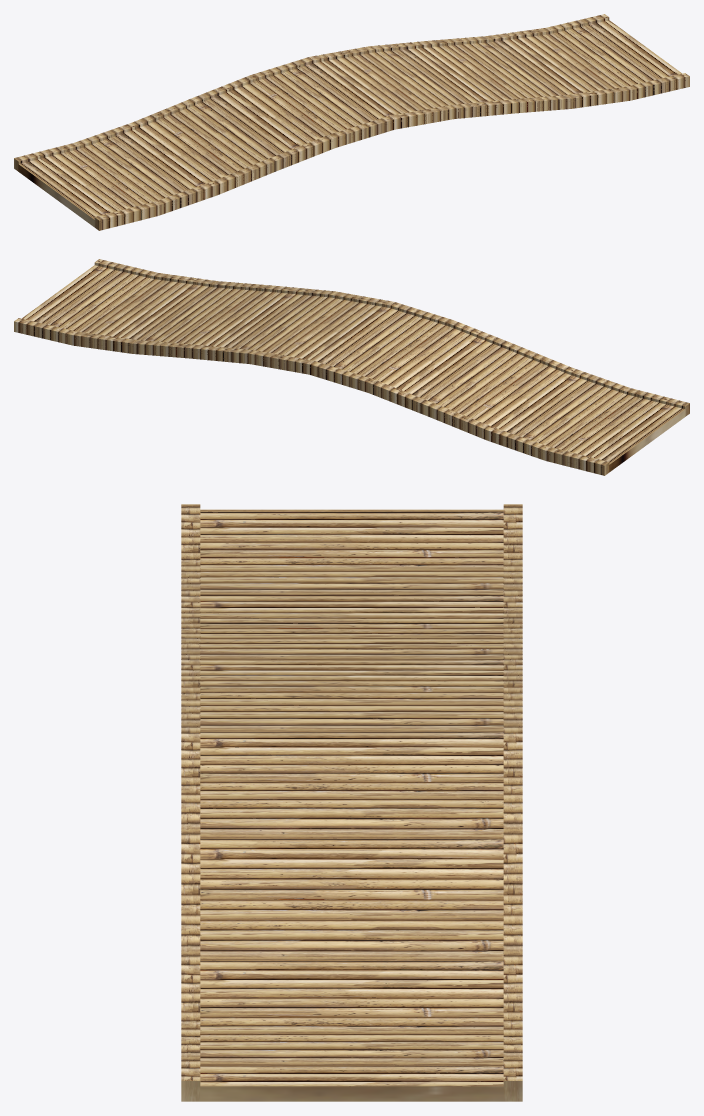
File: Jembatan Bambu.fbx
3 views of the same model, one above another, from view 1: azimuth 30°, elevation 25°; view 2: azimuth 150°, elevation 25°; view 3: azimuth 270°, elevation 25° (orthographic). The views are drawn at different scales.
Parts seen in each view (by area): view 1: Cube.001; view 2: Cube.001; view 3: Cube.001.
Boxes of the visible parts, box(x1,y1,x2,y2) form: Cube.001: box(14, 14, 689, 230); Cube.001: box(14, 259, 689, 475); Cube.001: box(181, 504, 522, 1101).
Bounding box in the file's own units: 40 × 2.56 × 10.
1 material, 1 textured.
